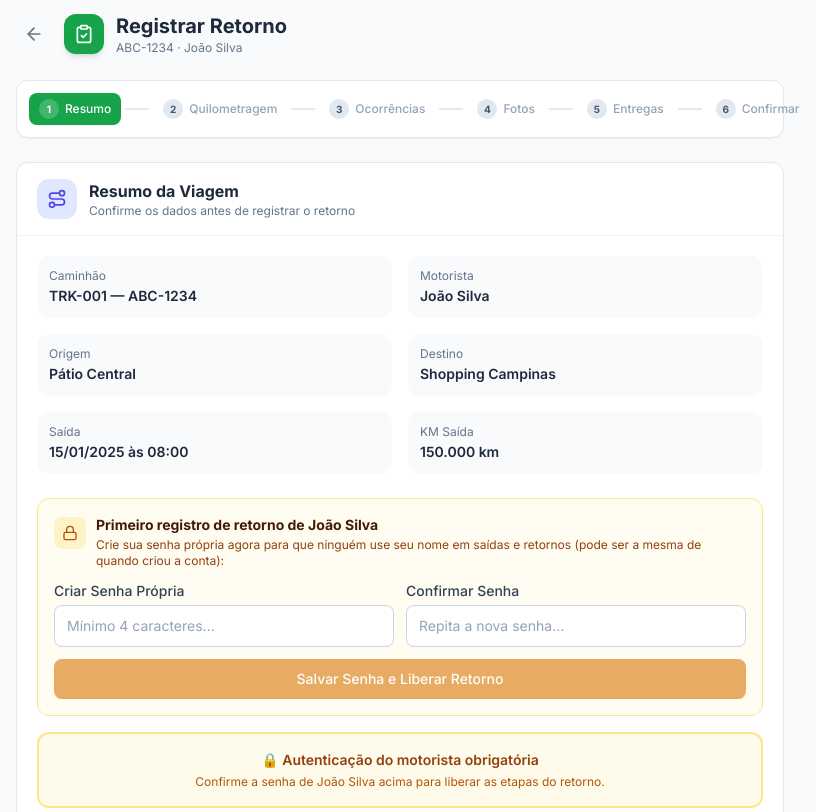
Test case: TripReturnPage › allows setup of password for first-time driver and unlocks advance to step 2
Expected: the heading "Resumo da Viagem" is shown, [89,181,239,201]
Expected: the text "Primeiro registro de retorno de João Silva" is shown, [96,516,378,533]
Step 1. Type "4321" into the password field labelled "Criar Senha Própria" → (224, 626), box [54,605,394,647]
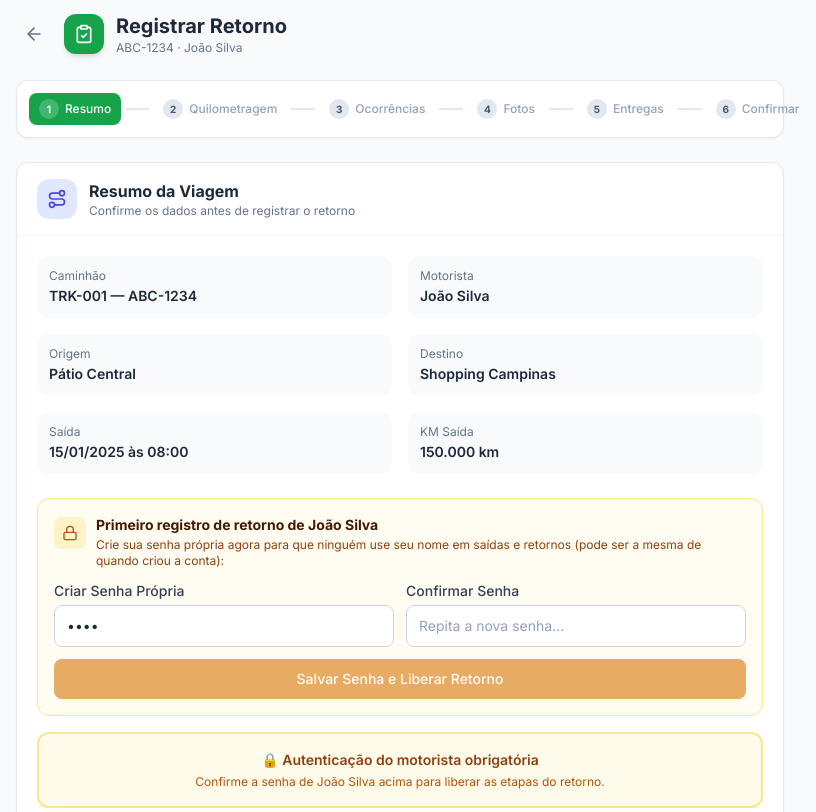
Step 2. Type "4321" into the password field labelled "Confirmar Senha" → (576, 626), box [406,605,746,647]
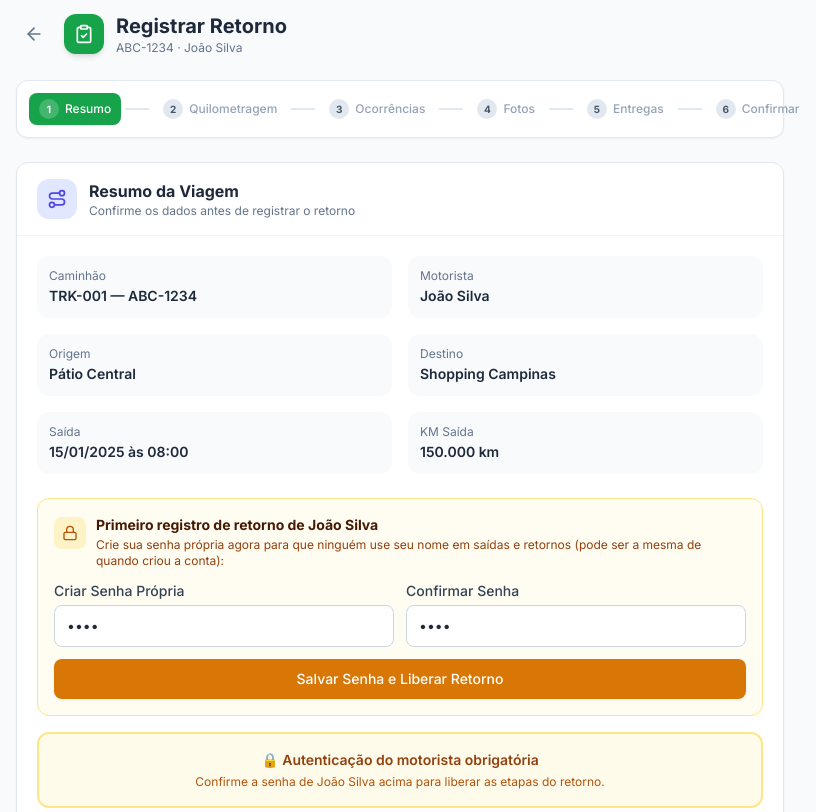
Step 3. Click the button "Salvar Senha e Liberar Retorno" → click(400, 679), box [54,659,746,699]
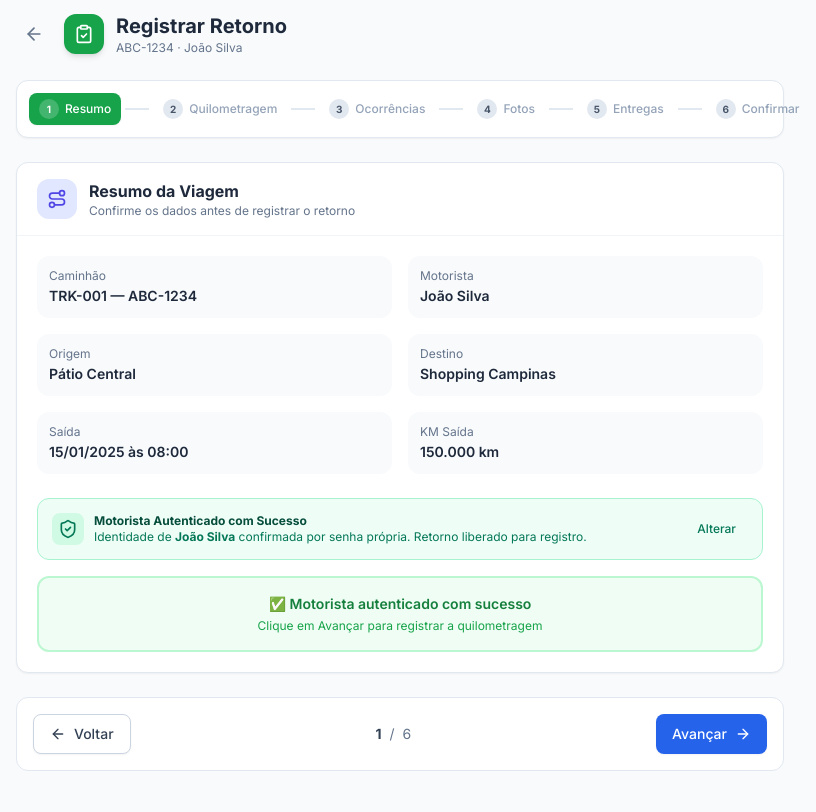
Result: the text "Motorista Autenticado com Sucesso" is shown at [94,513,307,528]
Result: the button "Avançar" is enabled
Step 4. Click the button "Avançar" → click(712, 734), box [656,714,767,754]
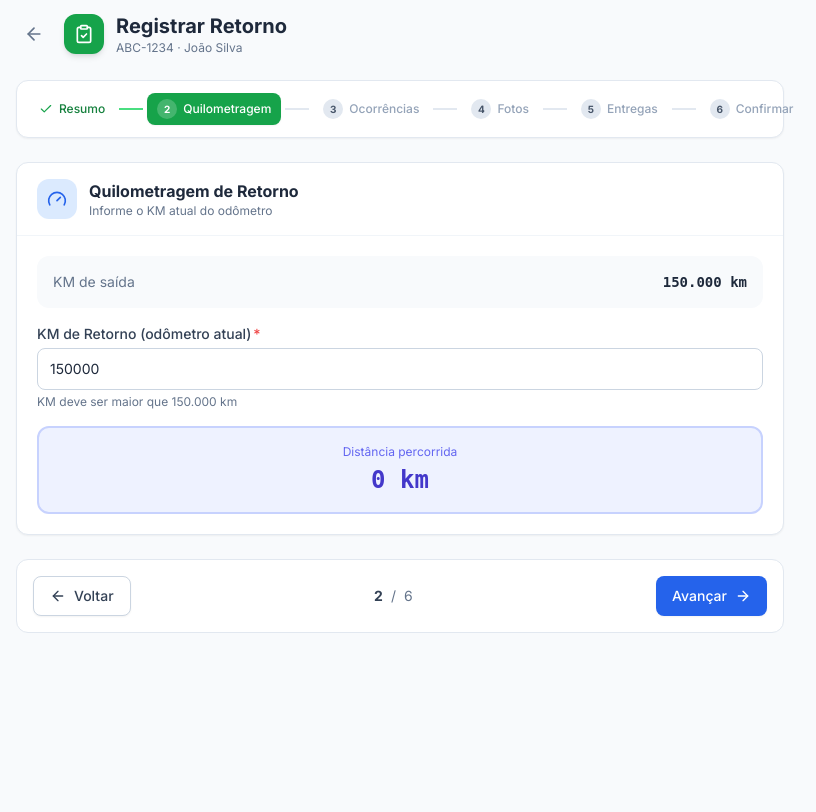
Result: the heading "Quilometragem de Retorno" is shown at [89,179,299,203]
